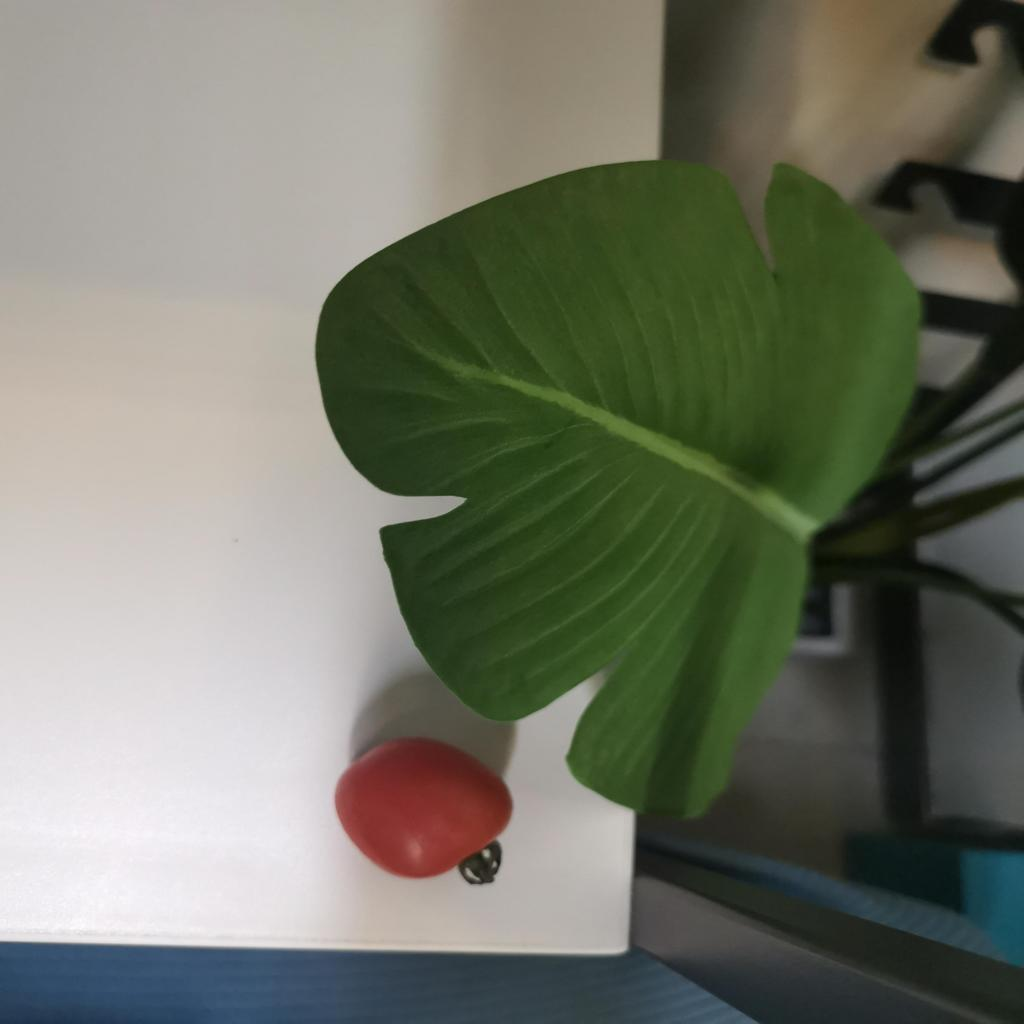tomato: (338, 715, 521, 897)
